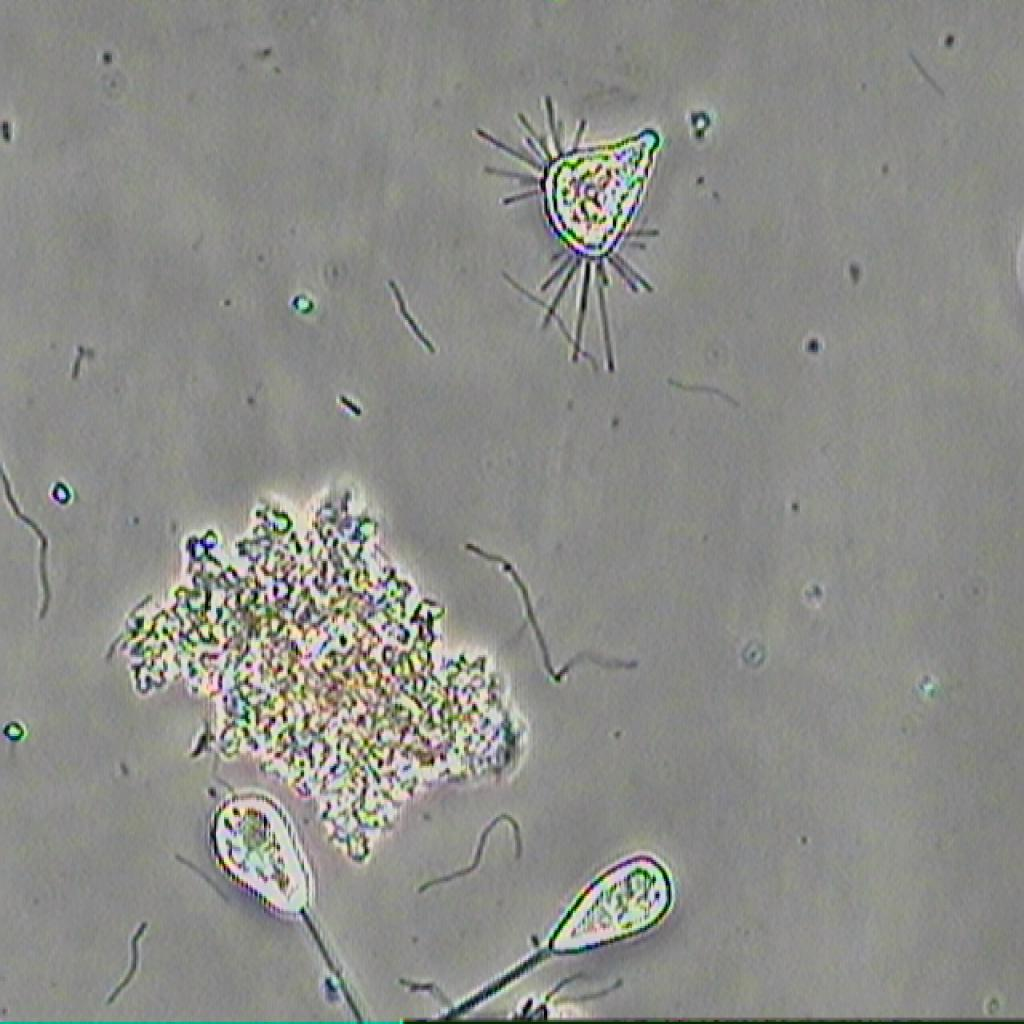Suctorida: (467, 72, 744, 394)
